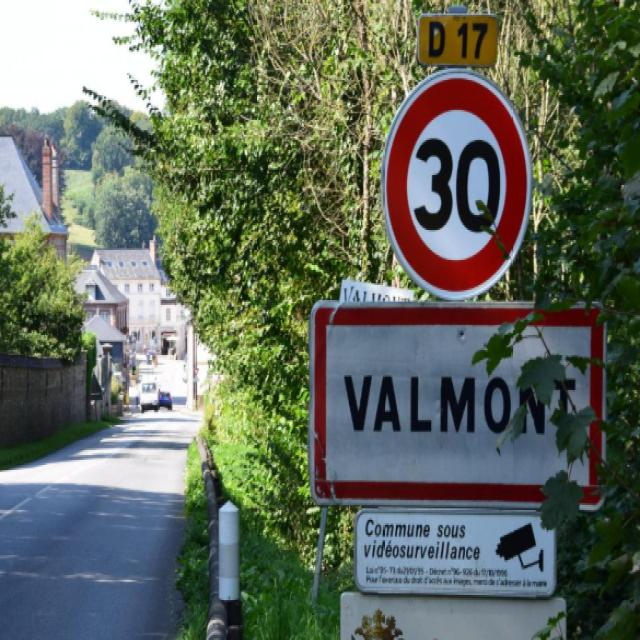speed_30: (381, 69, 532, 301)
